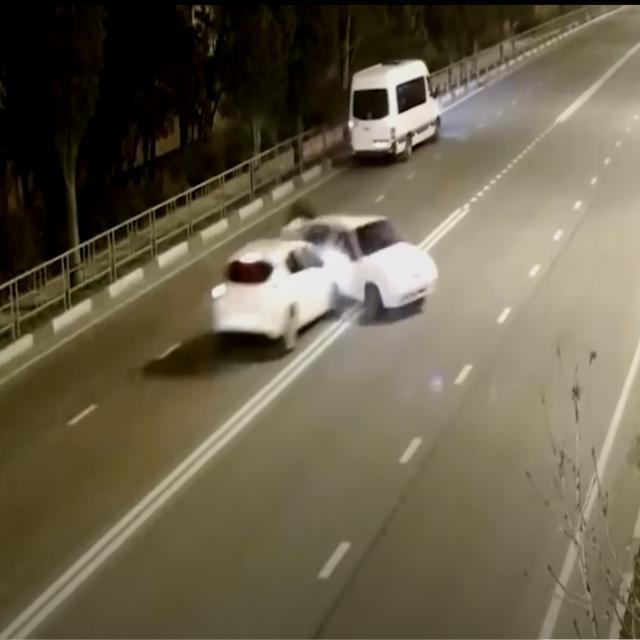accident: (210, 212, 440, 354)
